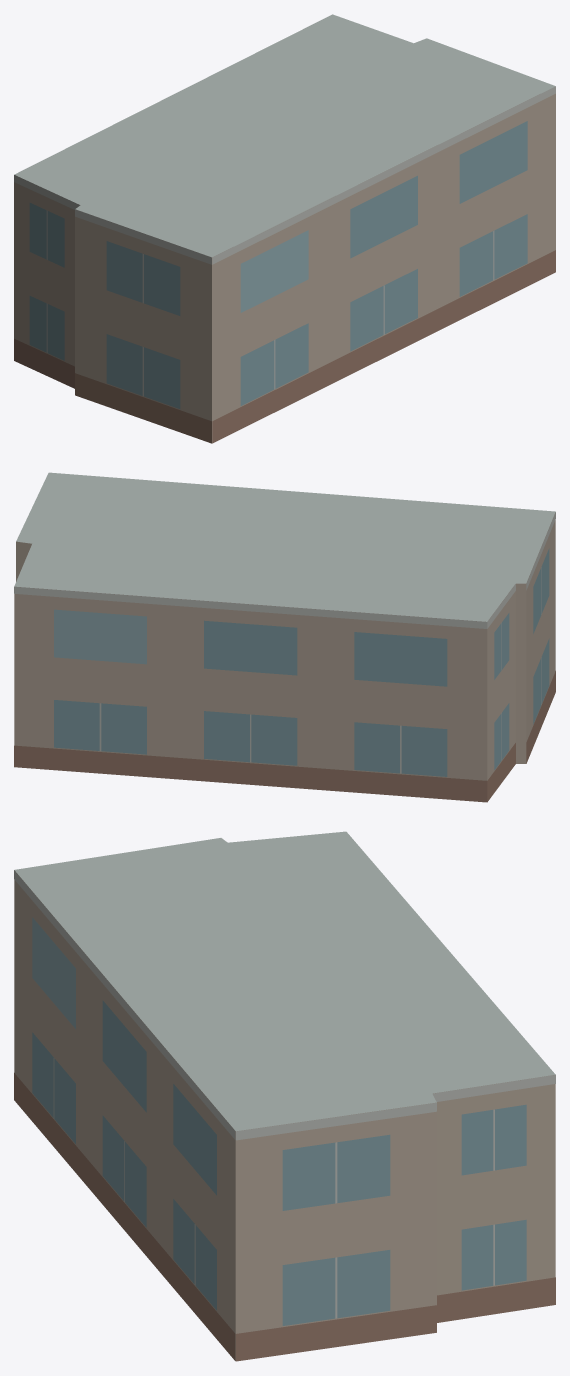
The model's file is survey-upis-32756190.glb.
The picture shows the model from 3 angles, top to bottom: view 1: azimuth 30°, elevation 25°; view 2: azimuth 150°, elevation 25°; view 3: azimuth 270°, elevation 25°; orthographic projection. The views are drawn at different scales.
Parts seen in each view (by area): view 1: survey-upis-32756190.tmp; view 2: survey-upis-32756190.tmp; view 3: survey-upis-32756190.tmp.
Part boxes in pixels (x1,y1,x2,y2): survey-upis-32756190.tmp: (14,14,555,443); survey-upis-32756190.tmp: (14,472,555,802); survey-upis-32756190.tmp: (14,831,555,1361).
Size of the model in its own units: 17.05 by 6.1 by 13.02.
